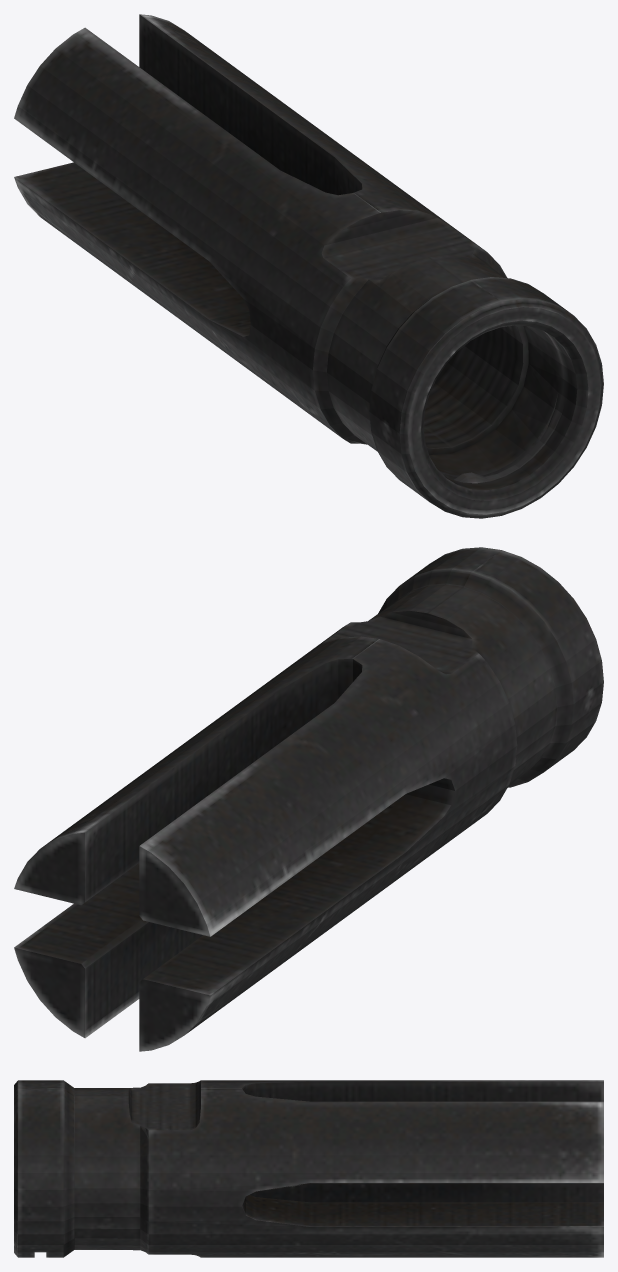
3 views of the same model, one above another, from view 1: azimuth 30°, elevation 25°; view 2: azimuth 150°, elevation 25°; view 3: azimuth 270°, elevation 25° (orthographic). The views are drawn at different scales.
Parts seen in each view (by area): view 1: TW_622f128cec80d870d349b4e8_PZ_Import; view 2: TW_622f128cec80d870d349b4e8_PZ_Import; view 3: TW_622f128cec80d870d349b4e8_PZ_Import.
Part boxes in pixels (box(x1,y1,x2,y2)): TW_622f128cec80d870d349b4e8_PZ_Import: box(14, 14, 603, 518); TW_622f128cec80d870d349b4e8_PZ_Import: box(14, 547, 603, 1051); TW_622f128cec80d870d349b4e8_PZ_Import: box(14, 1080, 603, 1257).
Size of the model in its own units: 0.0123 by 0.041 by 0.0123.
Materials: 1 (1 with a texture image).
